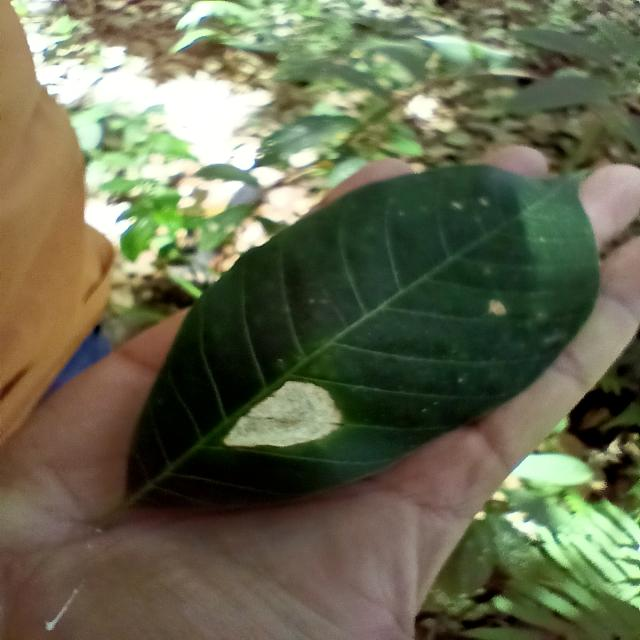Leaf-Blight: (224, 381, 342, 448)
